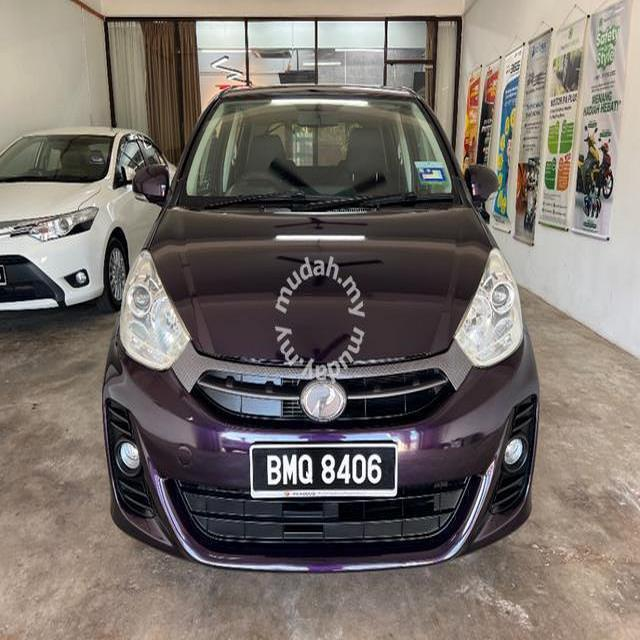License_Plate: (243, 435, 412, 503)
car: (101, 75, 544, 584)
